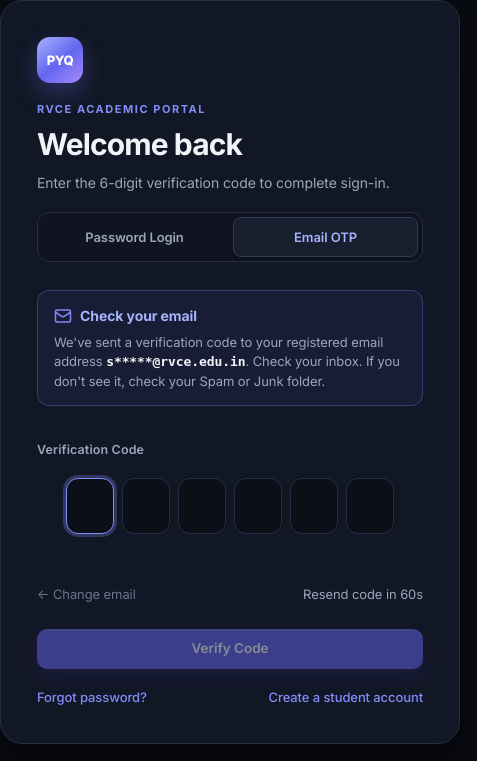
Login flow › Email OTP flow › allows typing digits and auto-progressing through inputs
Earlier steps of the test are not shown.
Expected: the text "s*****@rvce.edu.in" is shown, [106,354,246,369]
Type "1" into the field named "Digit 1 of 6" at (90, 506), box [66,478,114,534]
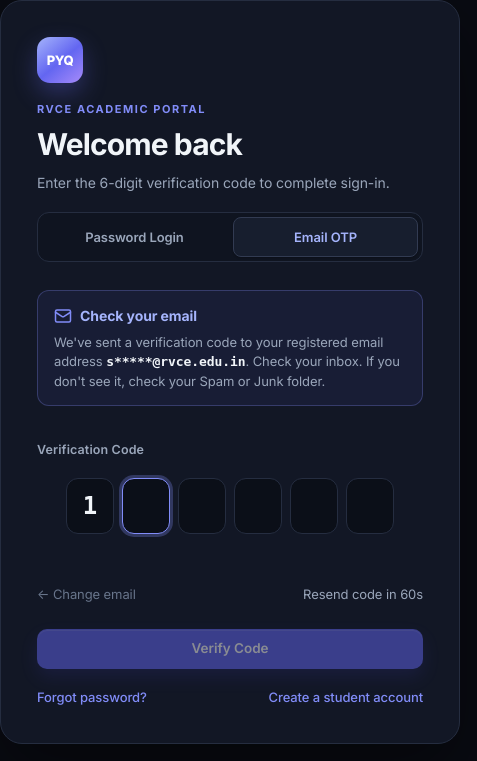
Type "2" into the field named "Digit 2 of 6" at (146, 506), box [122,478,170,534]
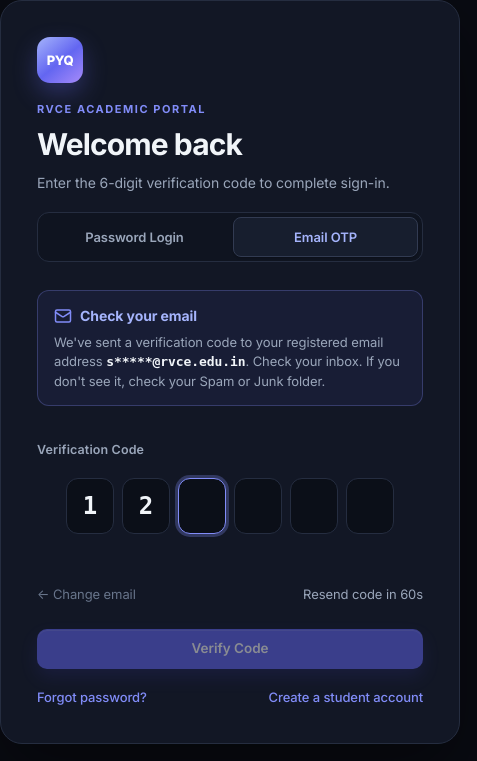
Type "3" into the field named "Digit 3 of 6" at (202, 506), box [178,478,226,534]
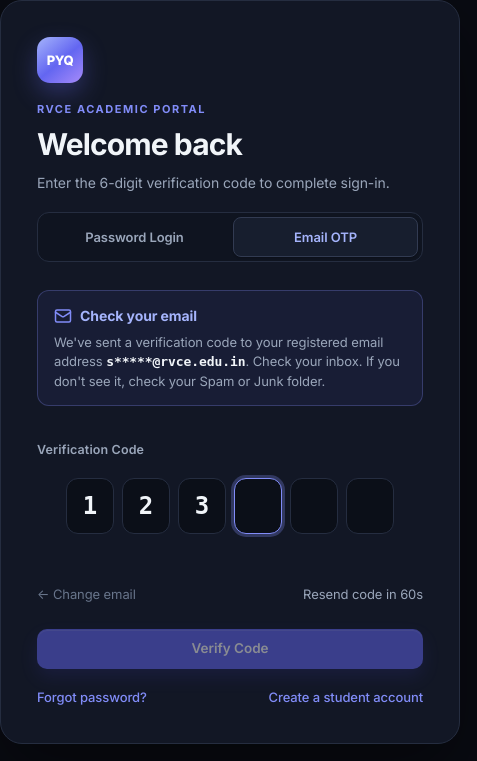
Type "4" into the field named "Digit 4 of 6" at (258, 506), box [234,478,282,534]
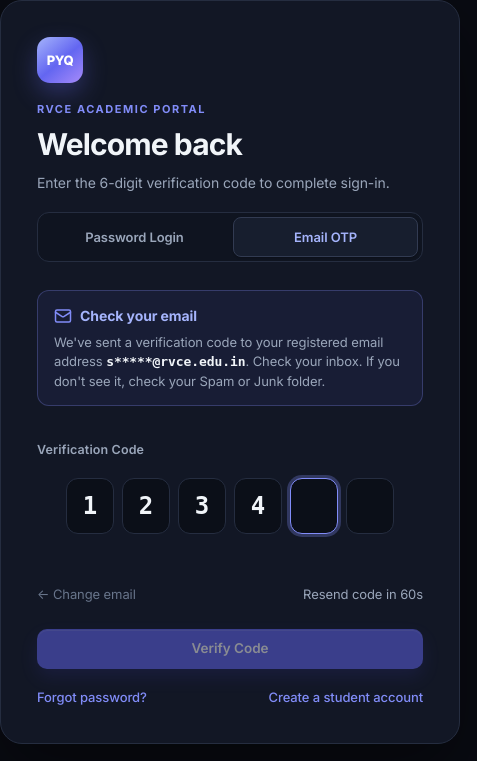
Type "5" into the field named "Digit 5 of 6" at (314, 506), box [290,478,338,534]
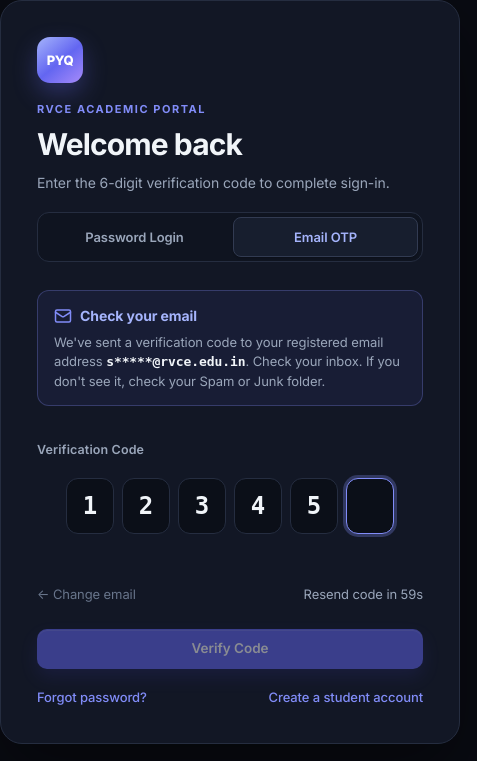
Type "6" into the field named "Digit 6 of 6" at (370, 506), box [346,478,394,534]
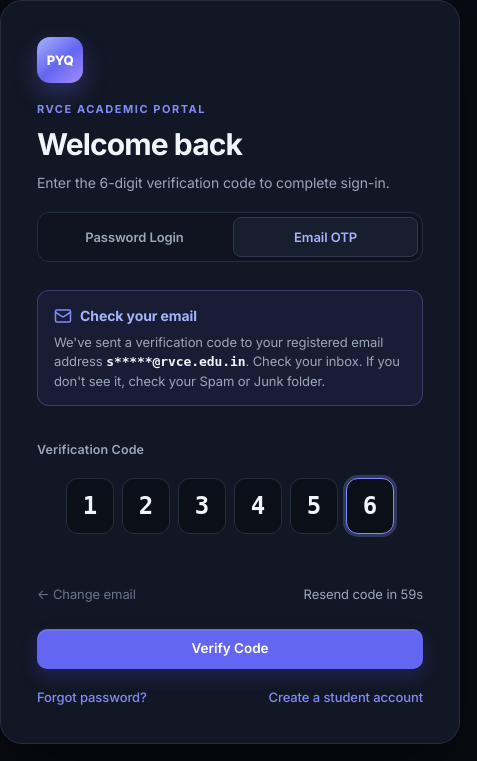
Now the button "Verify Code" is enabled, box [37,629,423,669]
